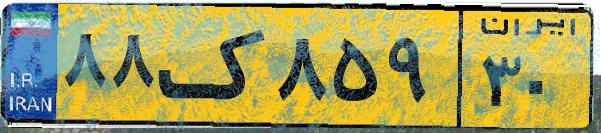0: (525, 38, 570, 115)
3: (475, 38, 525, 113)
5: (330, 28, 385, 110)
8: (270, 28, 330, 110), (57, 26, 110, 100), (110, 28, 158, 98)
9: (385, 28, 445, 110)
ک: (158, 12, 270, 120)
